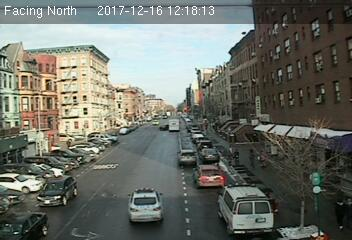car: (36, 175, 77, 205), (192, 164, 225, 189), (199, 148, 221, 163), (179, 150, 197, 166)
police: (215, 182, 275, 235), (127, 187, 165, 222)
